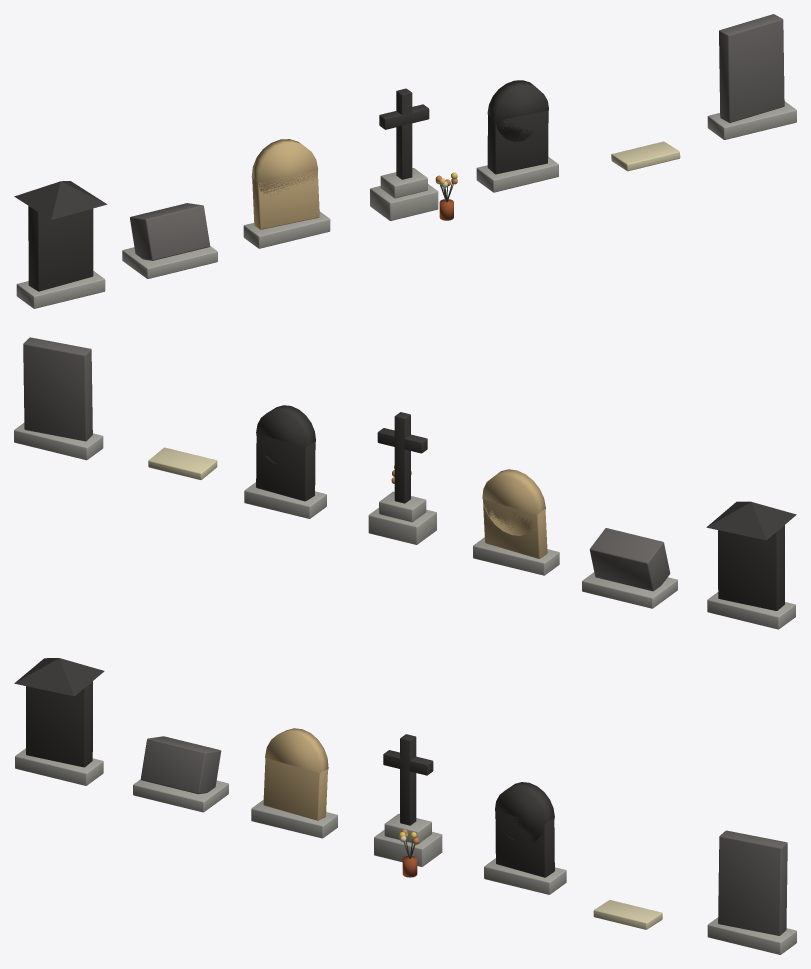
File: graveyard_grave_row_1.glb
The picture shows the model from 3 angles, top to bottom: view 1: azimuth 30°, elevation 25°; view 2: azimuth 150°, elevation 25°; view 3: azimuth 330°, elevation 25°; orthographic projection.
Parts seen in each view (by area): view 1: stone_6_slab, stone_0_slab, slant_1, stone_4_slab, stone_2_slab, stone_2_top, stone_4_top, stone_0_gable, slant_1_base, stone_6_base, stone_0_base, stone_2_base (+6 smaller); view 2: stone_6_slab, stone_0_slab, slant_1, stone_4_slab, stone_2_top, stone_2_slab, stone_0_gable, stone_4_top, slant_1_base, cross_3_base, stone_0_base, stone_6_base (+6 smaller); view 3: stone_6_slab, stone_0_slab, slant_1, stone_2_slab, stone_4_slab, stone_4_top, stone_0_gable, stone_2_top, slant_1_base, stone_6_base, stone_2_base, stone_0_base (+6 smaller).
Part boxes in pixels (x1=…): stone_6_slab: x1=719, y1=14, x2=784, y2=122; stone_0_slab: x1=28, y1=206, x2=93, y2=291; slant_1: x1=130, y1=203, x2=209, y2=260; stone_4_slab: x1=487, y1=110, x2=548, y2=174; stone_2_slab: x1=252, y1=170, x2=319, y2=229; stone_2_top: x1=251, y1=139, x2=317, y2=193; stone_4_top: x1=487, y1=80, x2=548, y2=141; stone_0_gable: x1=14, y1=181, x2=107, y2=219; slant_1_base: x1=122, y1=246, x2=217, y2=278; stone_6_base: x1=707, y1=101, x2=796, y2=139; stone_0_base: x1=16, y1=271, x2=105, y2=308; stone_2_base: x1=243, y1=211, x2=330, y2=248; stone_6_slab: x1=23, y1=337, x2=92, y2=441; stone_0_slab: x1=718, y1=525, x2=784, y2=610; slant_1: x1=589, y1=528, x2=670, y2=591; stone_4_slab: x1=256, y1=434, x2=315, y2=501; stone_2_top: x1=482, y1=469, x2=545, y2=535; stone_2_slab: x1=483, y1=499, x2=547, y2=558; stone_0_gable: x1=706, y1=501, x2=796, y2=540; stone_4_top: x1=256, y1=405, x2=315, y2=464; slant_1_base: x1=582, y1=572, x2=677, y2=608; cross_3_base: x1=368, y1=508, x2=436, y2=544; stone_0_base: x1=707, y1=592, x2=795, y2=629; stone_6_base: x1=14, y1=423, x2=103, y2=460; stone_6_slab: x1=718, y1=830, x2=787, y2=935; stone_0_slab: x1=26, y1=681, x2=92, y2=767; slant_1: x1=140, y1=736, x2=221, y2=794; stone_2_slab: x1=263, y1=758, x2=327, y2=820; stone_4_slab: x1=495, y1=811, x2=554, y2=877; stone_4_top: x1=495, y1=782, x2=554, y2=844; stone_0_gable: x1=14, y1=658, x2=104, y2=696; stone_2_top: x1=265, y1=728, x2=328, y2=777; slant_1_base: x1=133, y1=779, x2=228, y2=812; stone_6_base: x1=707, y1=917, x2=796, y2=954; stone_2_base: x1=251, y1=800, x2=337, y2=838; stone_0_base: x1=15, y1=748, x2=103, y2=785.
Size of the model in its own units: 8.62 by 1.27 by 0.8021.
